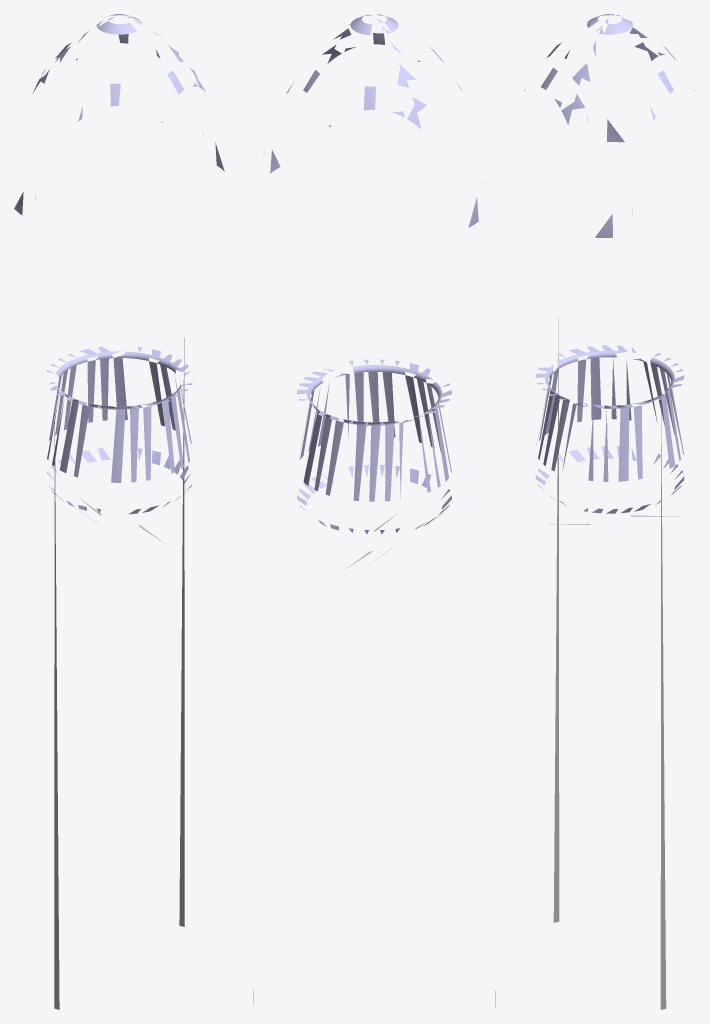
The picture shows the model from 3 angles, left to right: view 1: azimuth 30°, elevation 25°; view 2: azimuth 150°, elevation 25°; view 3: azimuth 270°, elevation 25°; orthographic projection. The views are drawn at different scales.
Parts seen in each view (by area): view 1: F19721000063101014112_001_zb_ub_stift_12_ba (×2); view 2: F19721000063101014112_001_zb_ub_stift_12_ba; view 3: F19721000063101014112_001_zb_ub_stift_12_ba (×2).
Part boxes in pixels (bbox=[...]): F19721000063101014112_001_zb_ub_stift_12_ba (×2): bbox=[14, 14, 224, 1009]; F19721000063101014112_001_zb_ub_stift_12_ba: bbox=[263, 14, 485, 534]; F19721000063101014112_001_zb_ub_stift_12_ba (×2): bbox=[524, 14, 695, 1009].
Bounding box in the file's own units: 24.49 × 18.48 × 113.
